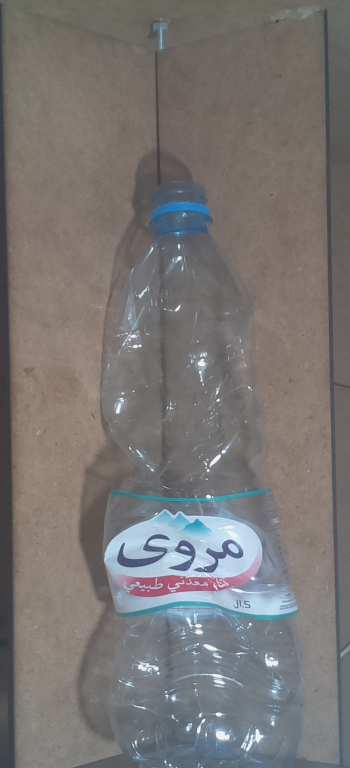Bouteille_1.5L: (100, 175, 314, 768)
